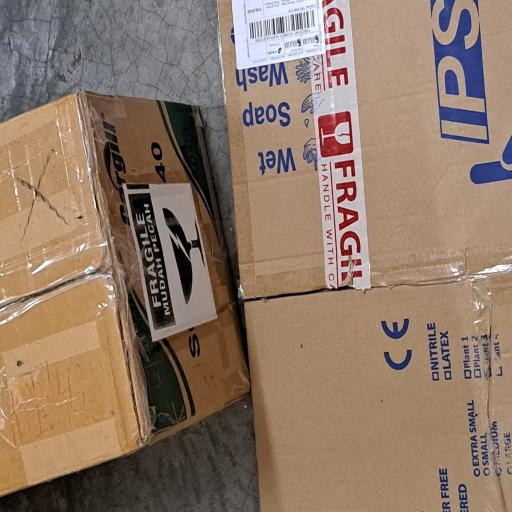cardboard: (12, 0, 315, 333), (0, 290, 384, 512)
